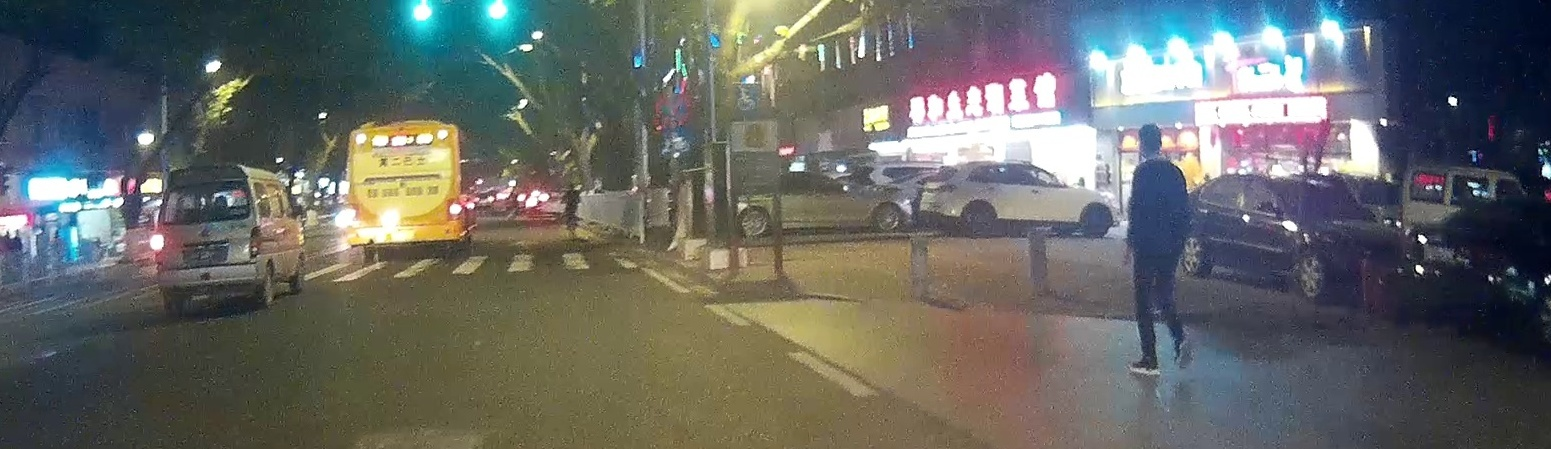L_light: (346, 202, 359, 229), (154, 234, 163, 271)
R_light: (249, 226, 262, 260), (447, 197, 462, 221)
T_light: (196, 183, 213, 188), (395, 131, 406, 135)
night-left: (149, 164, 265, 314)
night-no: (345, 120, 464, 260)
